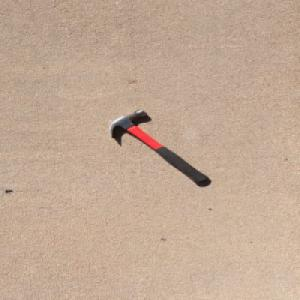Hammer: (107, 108, 210, 184)
